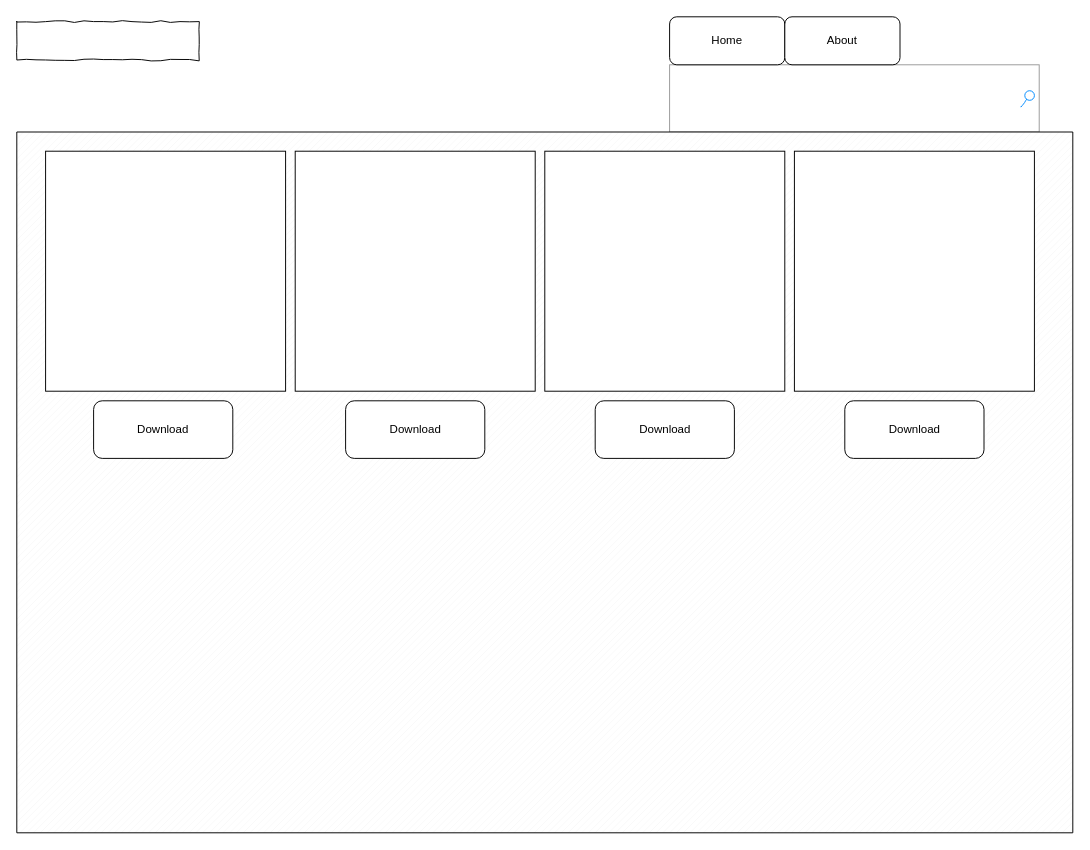
This 1090x850 diagram has some shape labels left out. Here are the shapes that lost their labels. From the top down, the box of each, then its label:
(16, 21, 199, 60): Giphy
(669, 64, 1039, 132): Search
